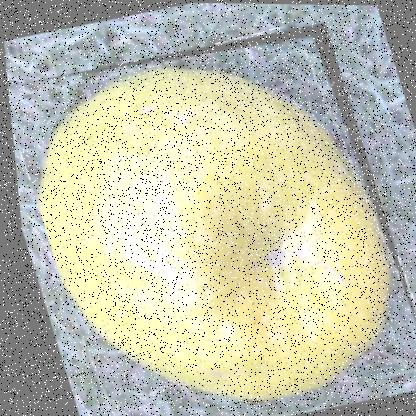orange: (1, 14, 415, 415)
